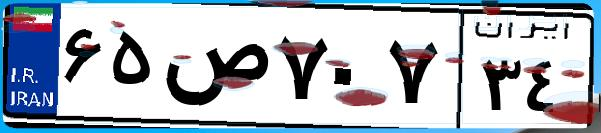0: (330, 28, 385, 110)
3: (475, 38, 525, 113)
4: (525, 38, 570, 115)
5: (110, 28, 158, 98)
6: (57, 26, 110, 100)
7: (270, 28, 330, 110), (385, 28, 445, 110)
ص: (158, 20, 270, 120)
